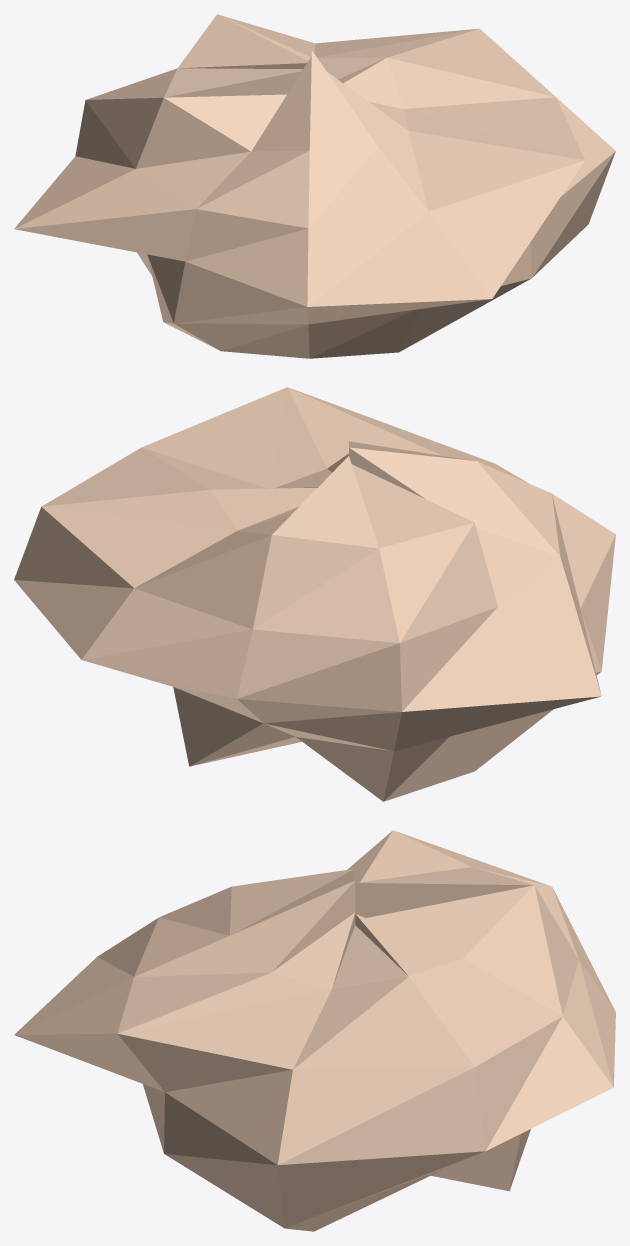
The model's file is rock_079.obj.
The picture shows the model from 3 angles, top to bottom: view 1: azimuth 30°, elevation 25°; view 2: azimuth 150°, elevation 25°; view 3: azimuth 270°, elevation 25°; orthographic projection. The views are drawn at different scales.
Size of the model in its own units: 1.49 by 0.7063 by 1.34.
